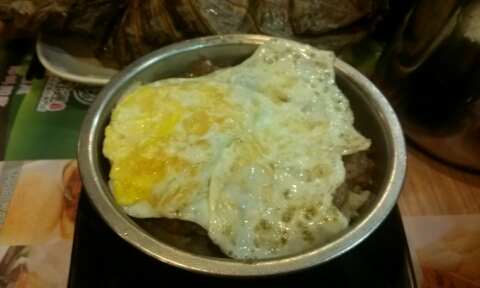fried egg: (114, 57, 352, 230)
